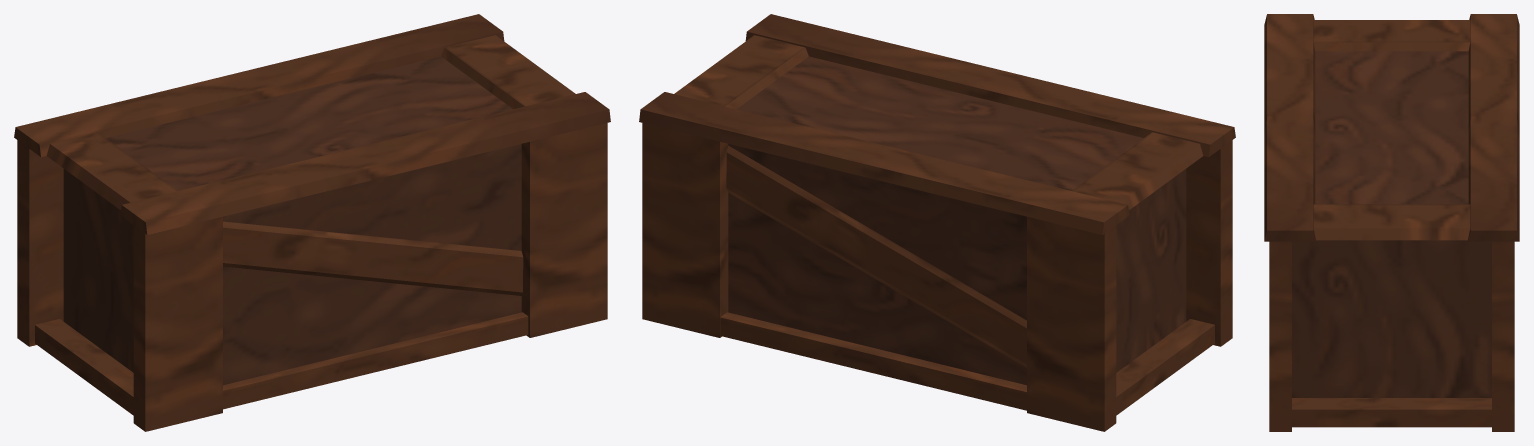
File: Caixa_2.glb
The picture shows the model from 3 angles, left to right: view 1: azimuth 30°, elevation 25°; view 2: azimuth 150°, elevation 25°; view 3: azimuth 270°, elevation 25°; orthographic projection. The views are drawn at different scales.
Parts seen in each view (by area): view 1: Caixa.2; view 2: Caixa.2; view 3: Caixa.2.
Part boxes in pixels (<box>): Caixa.2: <box>14,14,610,431</box>; Caixa.2: <box>639,14,1235,431</box>; Caixa.2: <box>1264,14,1519,431</box>.
Size of the model in its own units: 1.97 by 0.8524 by 0.9783.
1 material, 1 textured.
